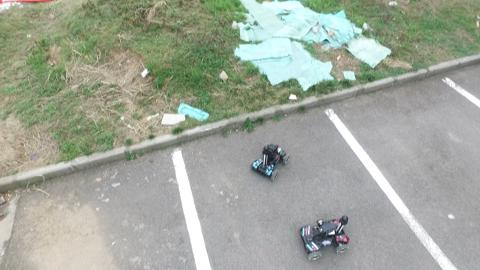chariot: (297, 207, 357, 263), (245, 141, 288, 187)
